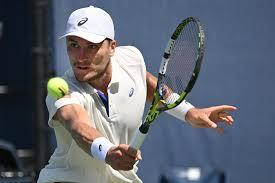ball_tennis: (47, 77, 69, 97)
